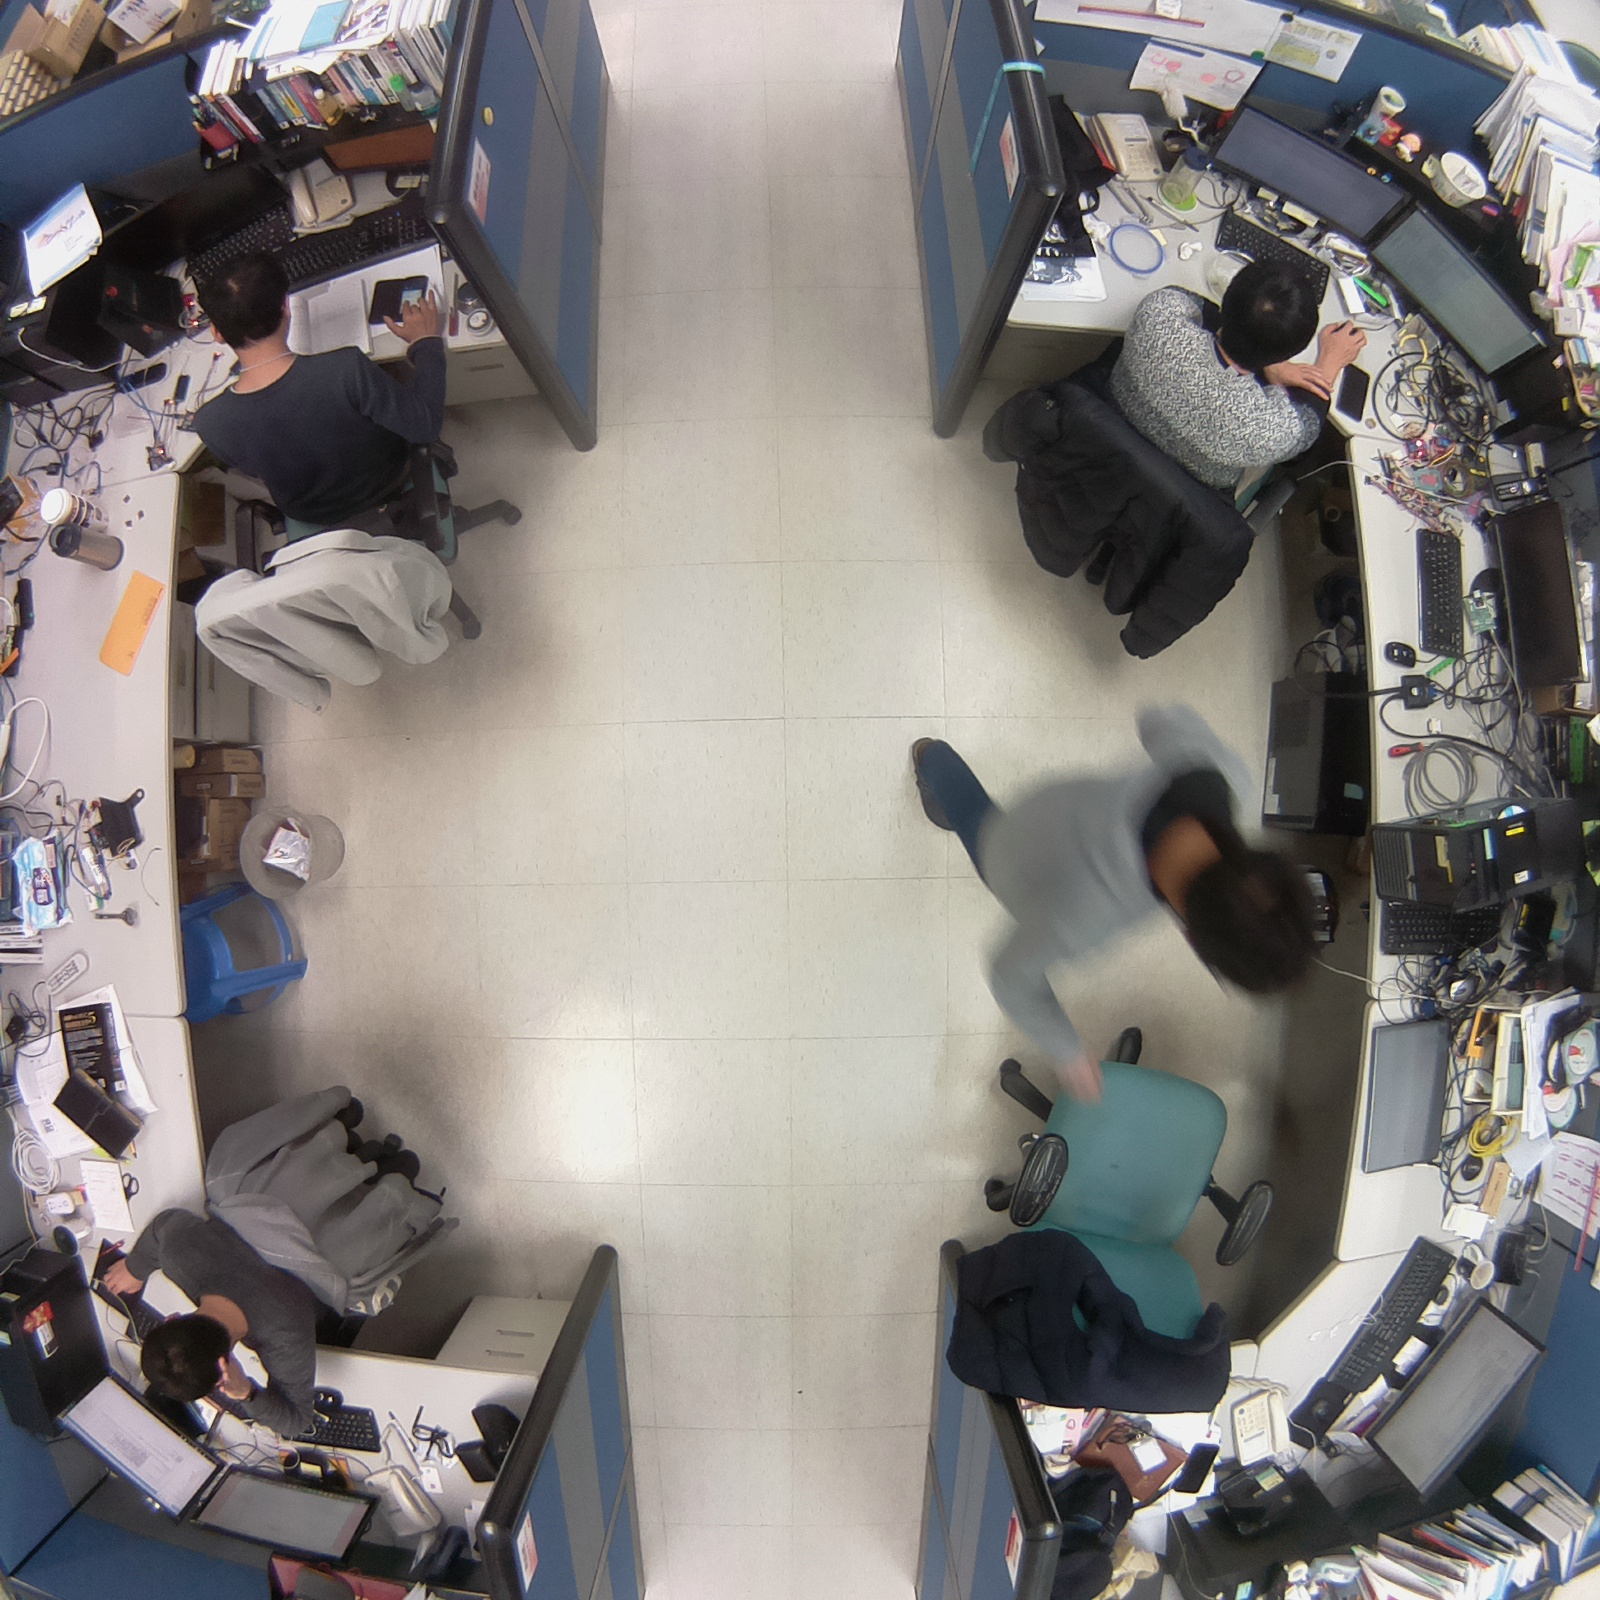chair: (912, 1027, 1301, 1417)
head: (1174, 840, 1332, 1014), (1217, 246, 1327, 370), (193, 242, 300, 355), (134, 1304, 238, 1414)
sitting: (965, 238, 1376, 681), (181, 254, 535, 722), (90, 1047, 473, 1424)
walking: (879, 681, 1337, 1101)
